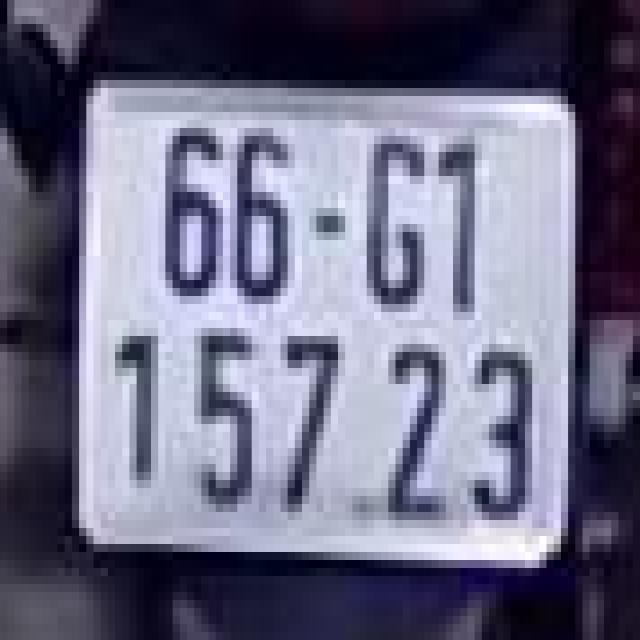1: (435, 132, 485, 316), (108, 328, 158, 496)
2: (381, 336, 453, 520)
3: (471, 344, 536, 528)
5: (191, 328, 255, 512)
6: (158, 124, 223, 300), (234, 128, 291, 304)
7: (281, 328, 345, 520)
G: (367, 132, 431, 308)
